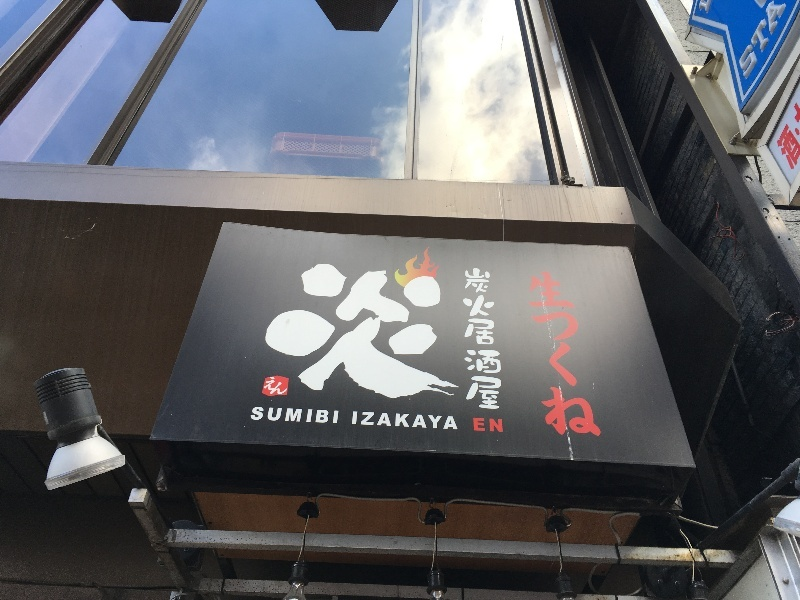text: (529, 270, 544, 437), (545, 270, 560, 437), (561, 270, 576, 437), (577, 270, 592, 437), (289, 260, 304, 405), (305, 260, 320, 405), (321, 260, 336, 405), (337, 260, 352, 405), (353, 260, 368, 405), (369, 260, 384, 405), (385, 260, 400, 405), (401, 260, 416, 405), (417, 260, 432, 405), (433, 260, 448, 405), (465, 268, 480, 411), (481, 268, 496, 411), (449, 260, 461, 405), (593, 270, 602, 437), (737, 1, 752, 83), (753, 1, 768, 83), (769, 1, 784, 83), (497, 268, 504, 411), (787, 124, 800, 188), (283, 260, 288, 405), (524, 270, 528, 437), (785, 1, 791, 83), (273, 376, 289, 397), (353, 410, 368, 430), (369, 410, 384, 430), (385, 410, 400, 430), (401, 410, 416, 430), (417, 410, 432, 430), (433, 410, 448, 430), (257, 406, 272, 425), (273, 406, 288, 425), (289, 406, 304, 425), (305, 406, 320, 425), (321, 406, 336, 425), (481, 417, 496, 433), (449, 410, 459, 430), (463, 268, 464, 411), (473, 417, 480, 433), (497, 417, 504, 433), (267, 376, 272, 397), (705, 1, 712, 15), (253, 406, 256, 425), (337, 406, 340, 425), (700, 1, 704, 15)
